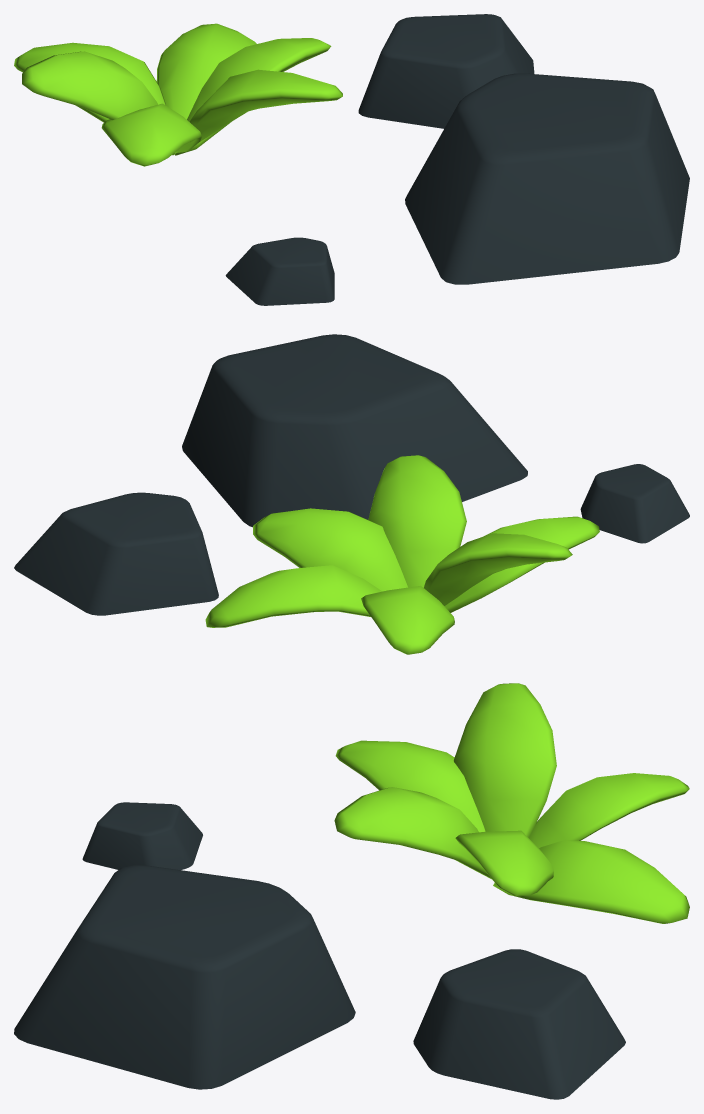
The model's file is grass_with_stones.fbx.
3 views of the same model, one above another, from view 1: azimuth 30°, elevation 25°; view 2: azimuth 150°, elevation 25°; view 3: azimuth 270°, elevation 25° (orthographic). The views are drawn at different scales.
Parts seen in each view (by area): view 1: simple_grass.009; view 2: simple_grass.009; view 3: simple_grass.009.
Boxes of the visible parts, left/top/right/bottom form: simple_grass.009: left=14, top=14, right=689, bottom=305; simple_grass.009: left=14, top=334, right=689, bottom=654; simple_grass.009: left=14, top=683, right=689, bottom=1099.
Bounding box in the file's own units: 134 × 30.91 × 135.
